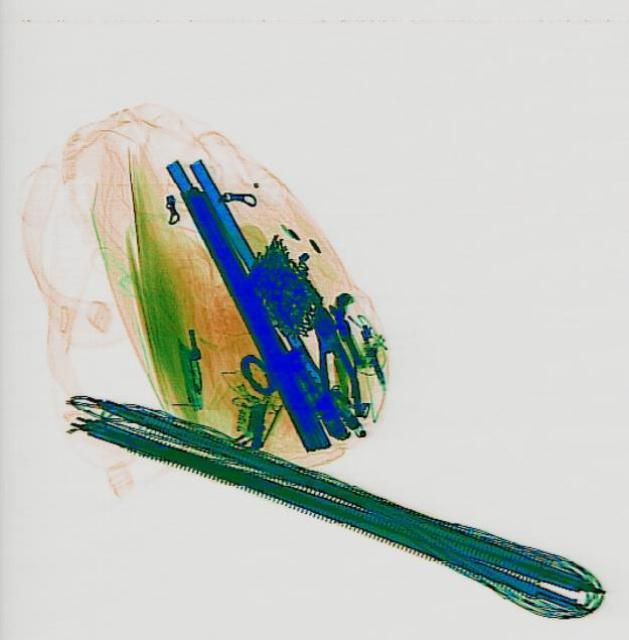Pliers: (300, 300, 365, 424)
